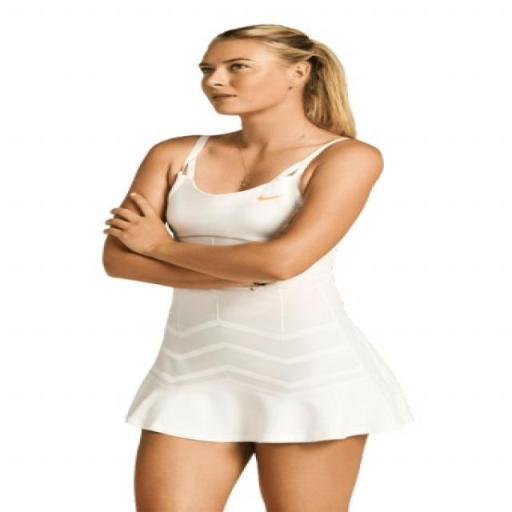Nike: (252, 193, 288, 203)
